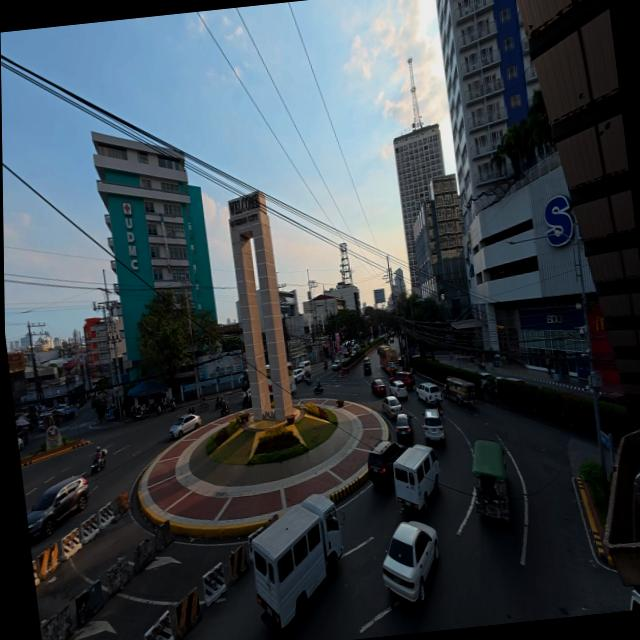car: (423, 406, 448, 444), (169, 412, 204, 439)
vans: (247, 493, 359, 635), (387, 441, 442, 513)
